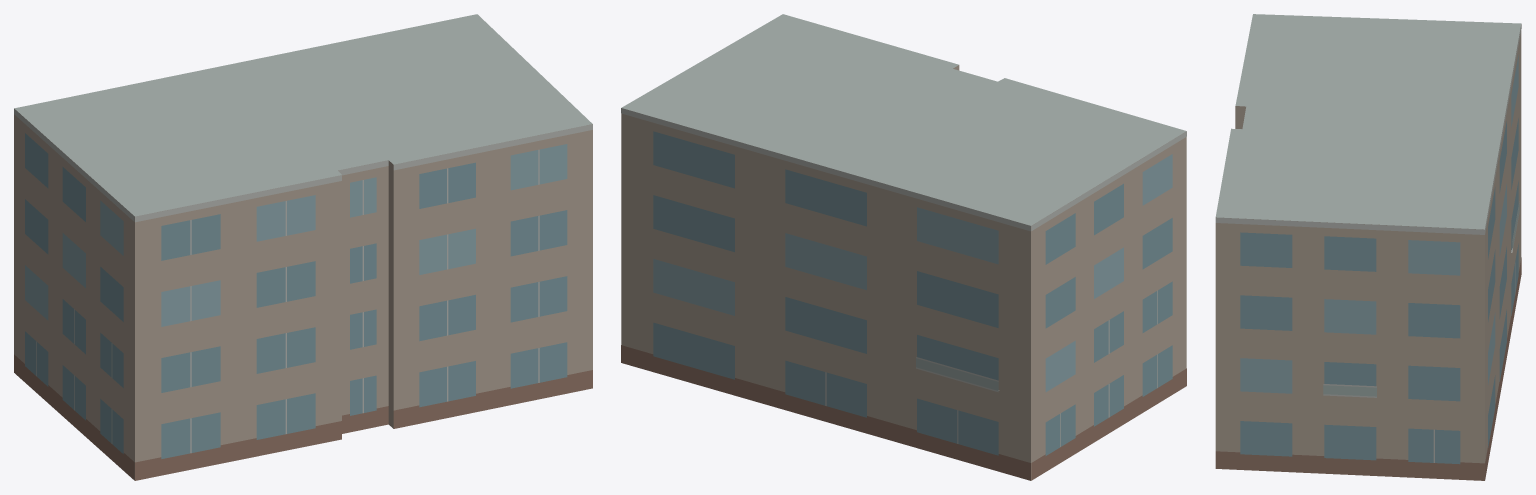
The model's file is survey-upis-32736506.glb.
3 views of the same model, side by side, from view 1: azimuth 30°, elevation 25°; view 2: azimuth 150°, elevation 25°; view 3: azimuth 270°, elevation 25° (orthographic). The views are drawn at different scales.
Visible parts, largest first — view 1: survey-upis-32736506.tmp; view 2: survey-upis-32736506.tmp; view 3: survey-upis-32736506.tmp.
Part boxes in pixels (<box>): survey-upis-32736506.tmp: <box>14,14,592,480</box>; survey-upis-32736506.tmp: <box>621,14,1186,480</box>; survey-upis-32736506.tmp: <box>1215,14,1521,480</box>.
Bounding box in the file's own units: 20.42 × 11.1 × 12.25.
